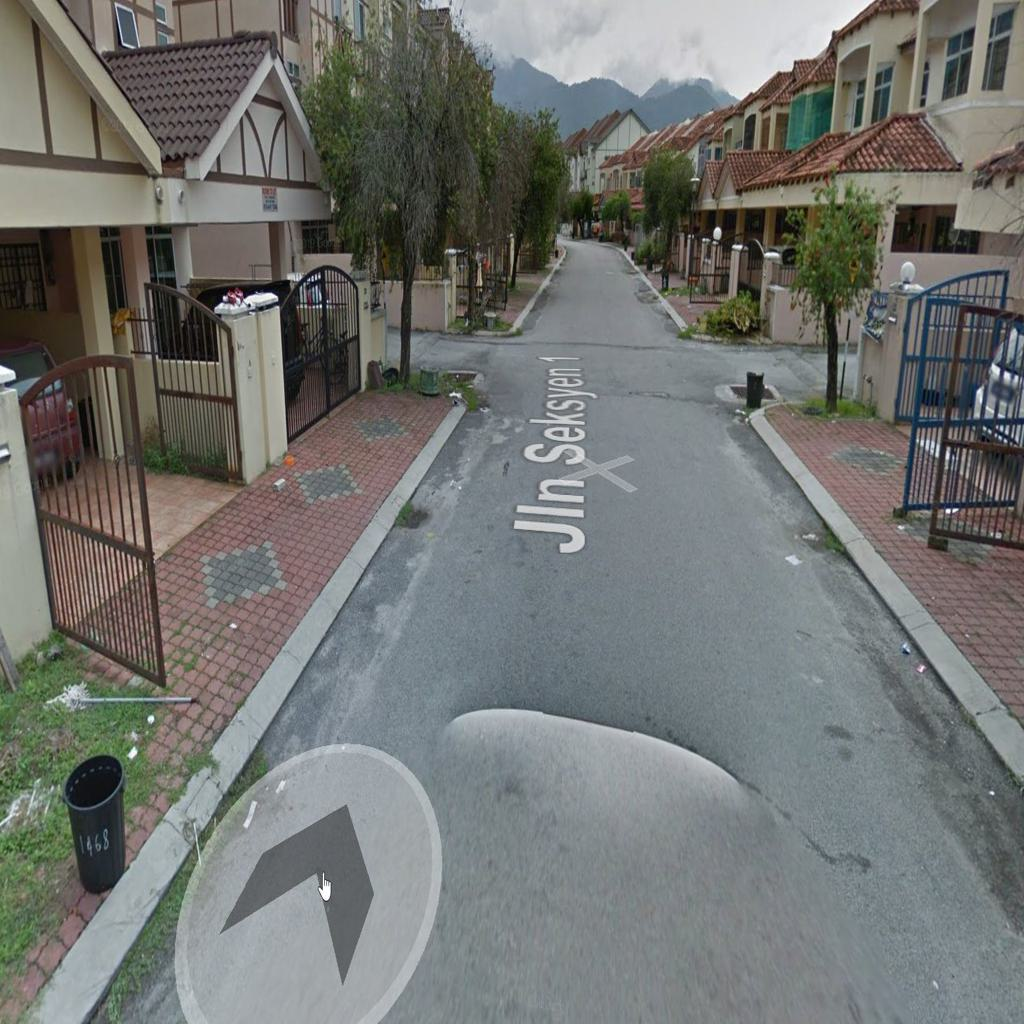Junction: (660, 311, 858, 433), (373, 303, 562, 419)
